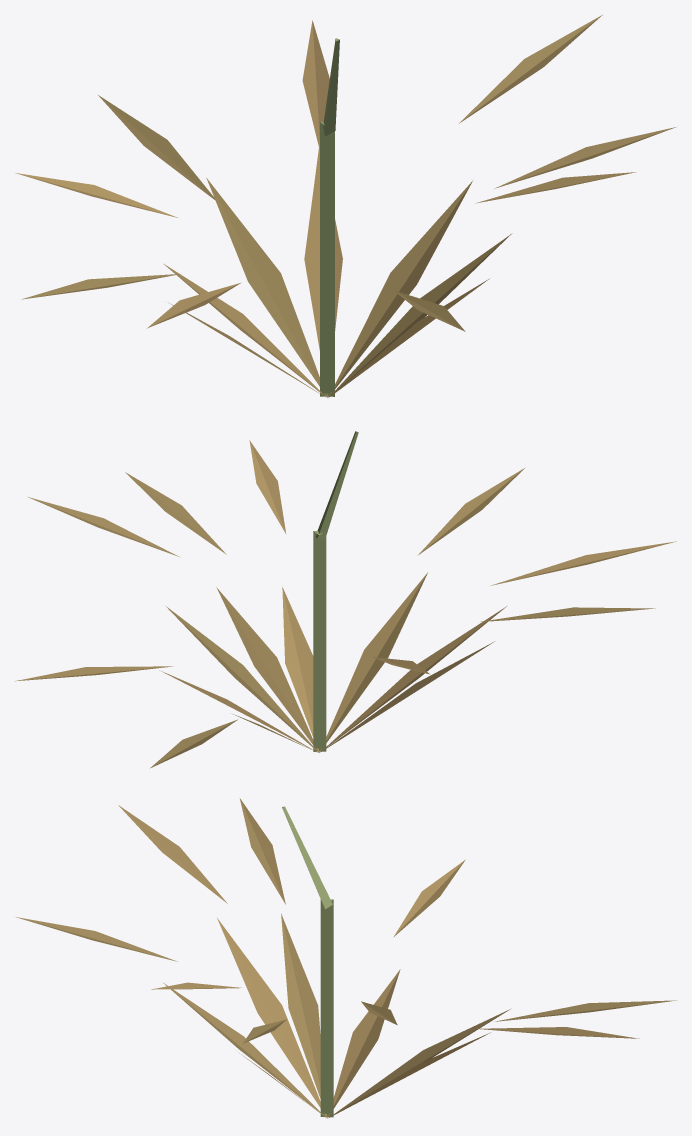
File: hua.lan@subadult__autumn.glb
3 views of the same model, one above another, from view 1: azimuth 30°, elevation 25°; view 2: azimuth 150°, elevation 25°; view 3: azimuth 270°, elevation 25° (orthographic). The views are drawn at different scales.
Visible parts, largest first — view 1: hua.lan@subadult__autumn; view 2: hua.lan@subadult__autumn; view 3: hua.lan@subadult__autumn.
Boxes of the visible parts, box(x1,y1,x2,y2) form: hua.lan@subadult__autumn: box(15, 15, 676, 397); hua.lan@subadult__autumn: box(15, 431, 676, 768); hua.lan@subadult__autumn: box(16, 798, 676, 1118).
Size of the model in its own units: 0.7407 by 0.3985 by 0.7861.
